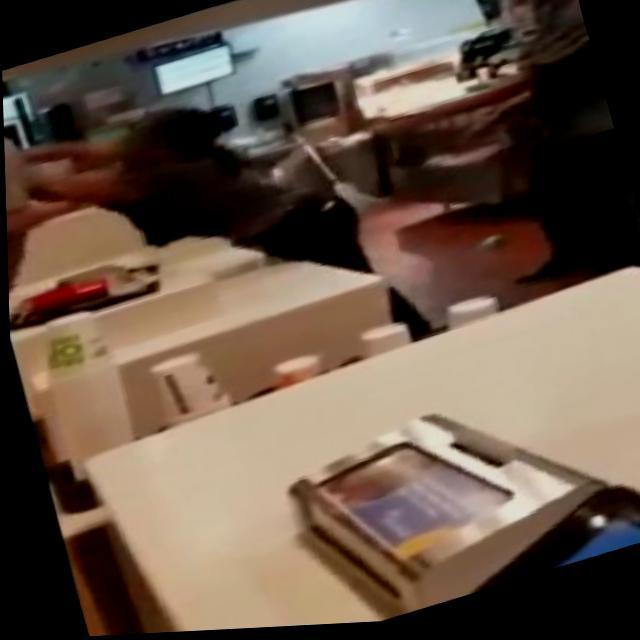fight: (0, 0, 367, 354)
